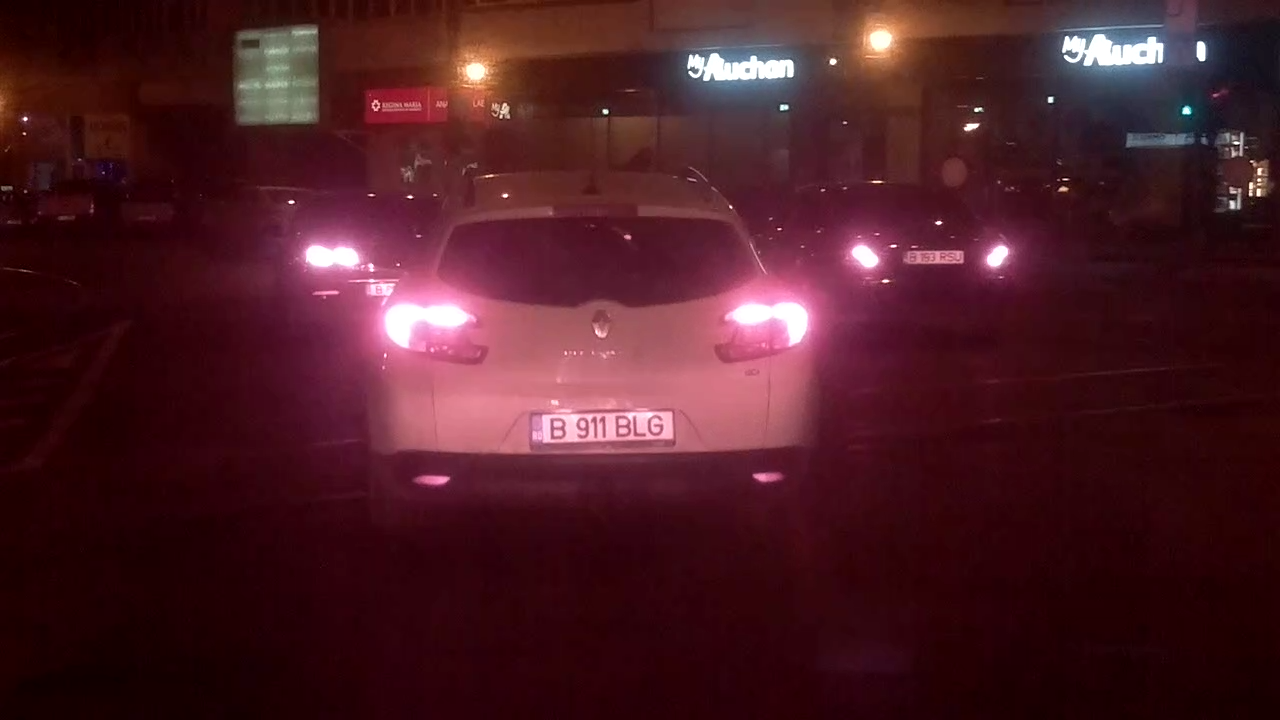license-plate: (525, 405, 679, 449)
